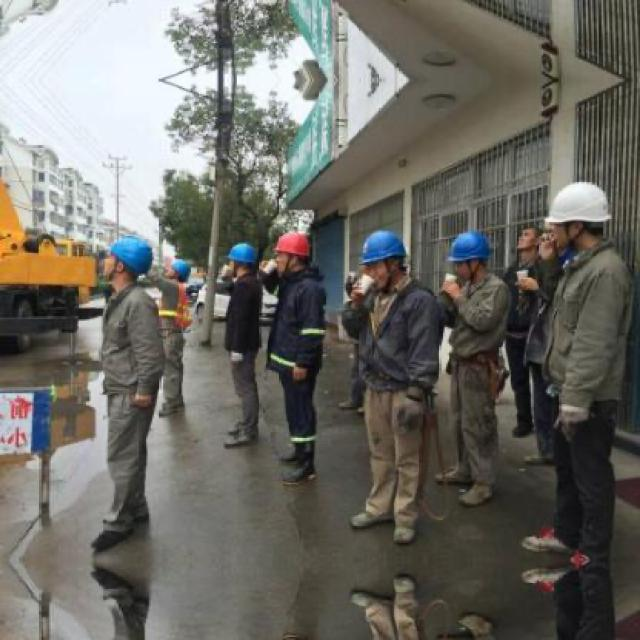con casco: (552, 168, 634, 258), (361, 222, 424, 301), (100, 232, 178, 289), (445, 222, 512, 280), (224, 222, 278, 287), (276, 226, 336, 281)
